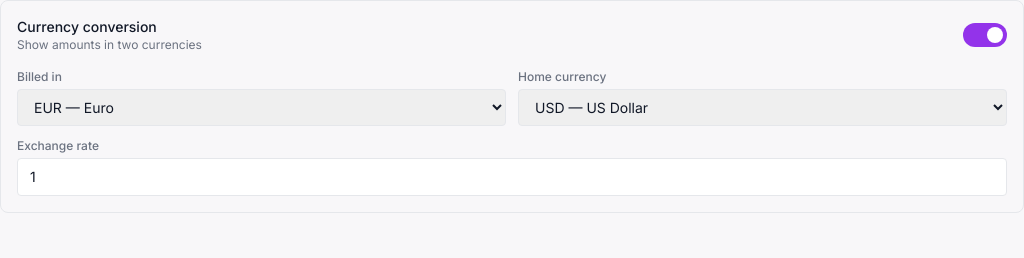
Test: CurrencyConversionForm — same-currency error timing › shows error after user changes home currency to match billed currency
Select "EUR — Euro" in the dropdown below "Home currency" at {"x": 762, "y": 108}, box 518,89 -> 1007,126
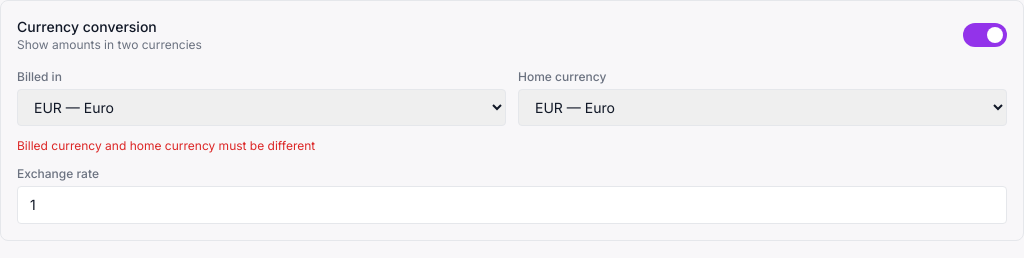
Expected: the text "Billed currency and home currency must be different" is shown, 17,138 -> 315,153
